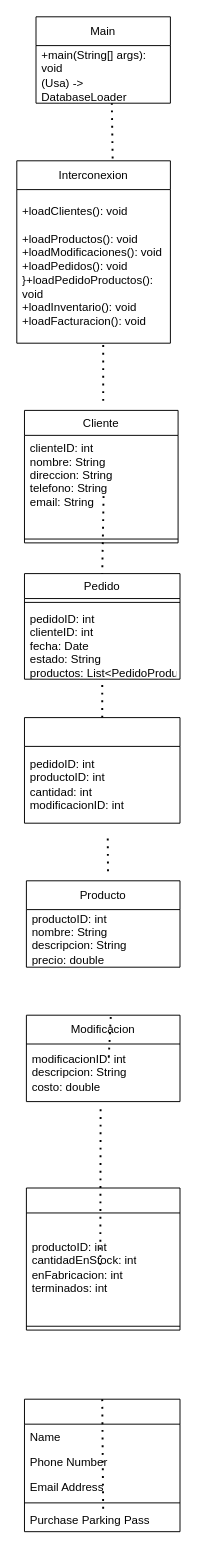
Image size: 216x1551. Some labels were removed from this diagram. The box of each missing label's shape, as (x1, y1, x2, y2) in pixels:
Factura: (24, 1398, 180, 1532)
Inventario: (25, 1187, 180, 1330)
Pedido Producto: (24, 717, 180, 823)
